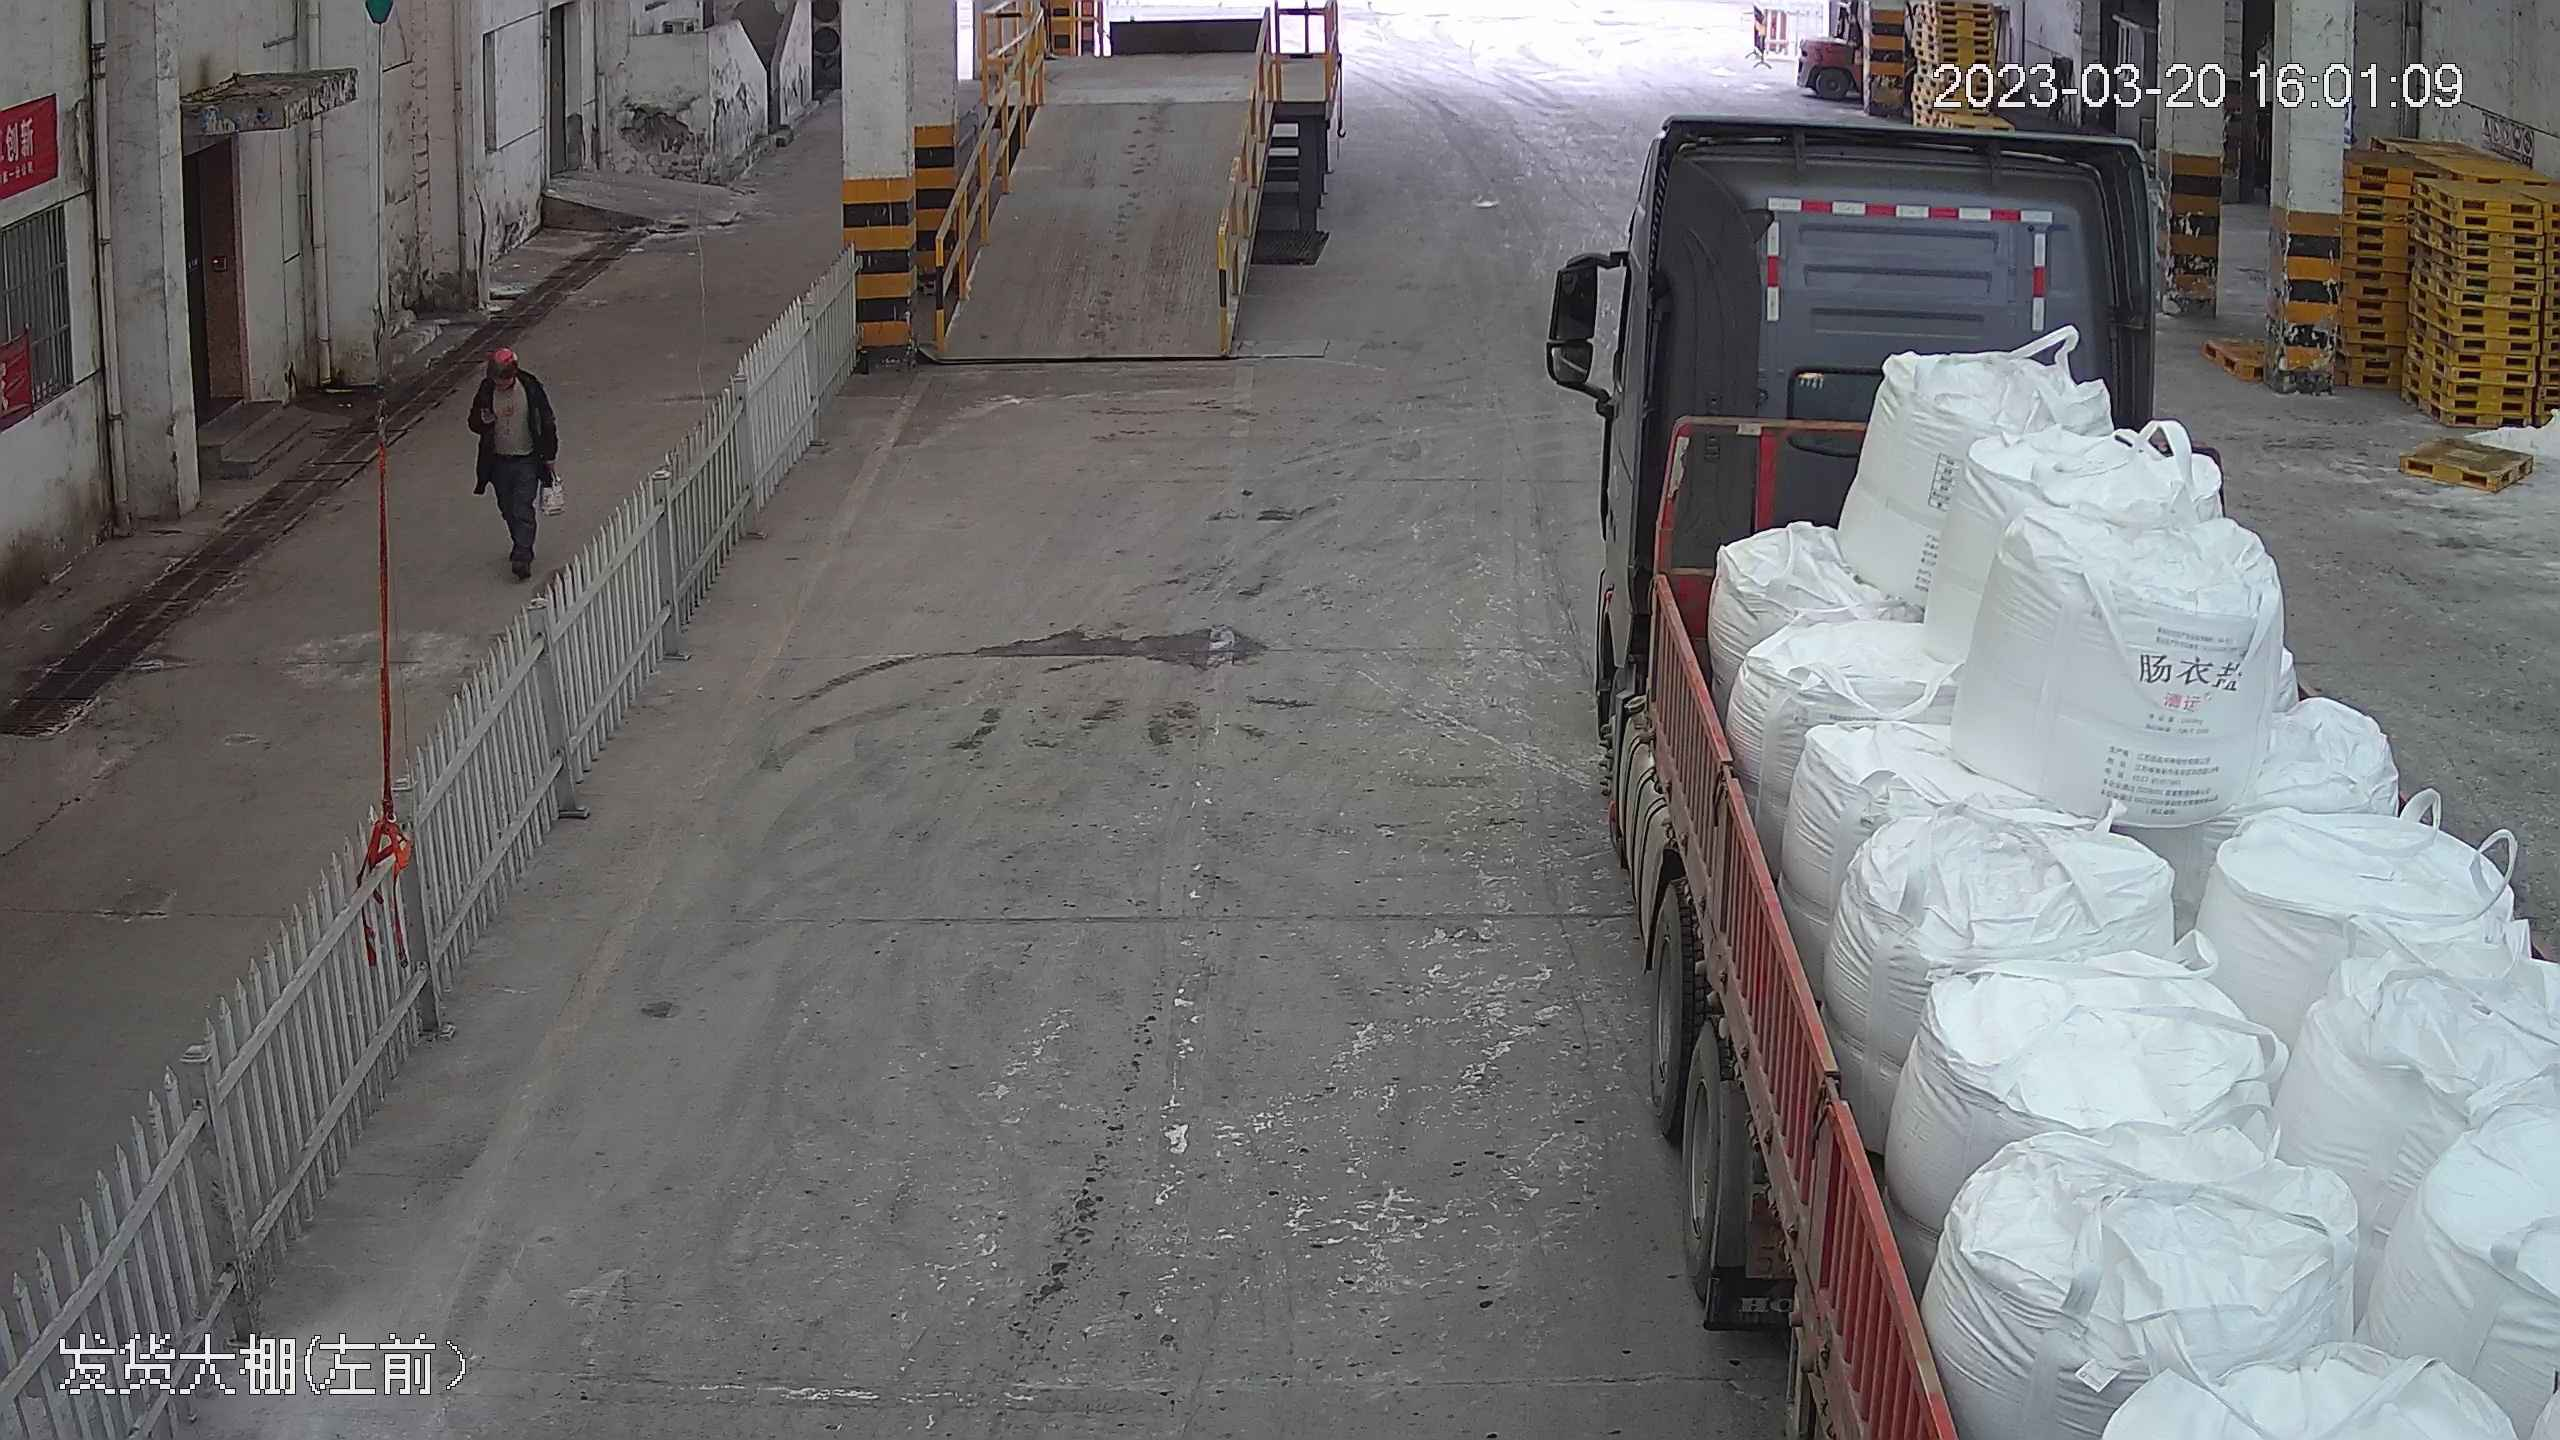head: (472, 339, 542, 408)
helmet: (482, 339, 524, 376)
people: (462, 335, 561, 584)
truck: (1571, 95, 2560, 1440)
